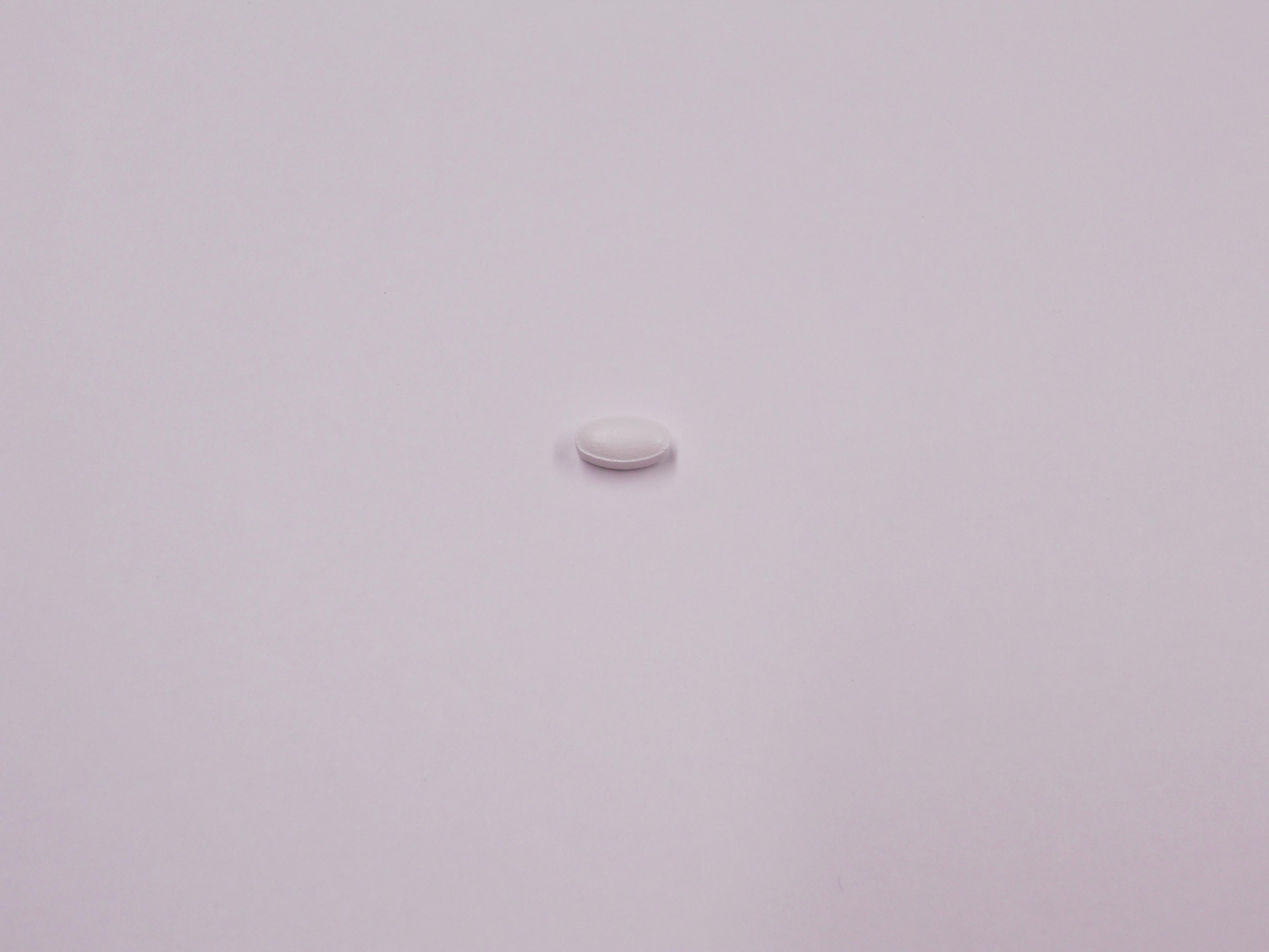Pill: (571, 414, 682, 478)
